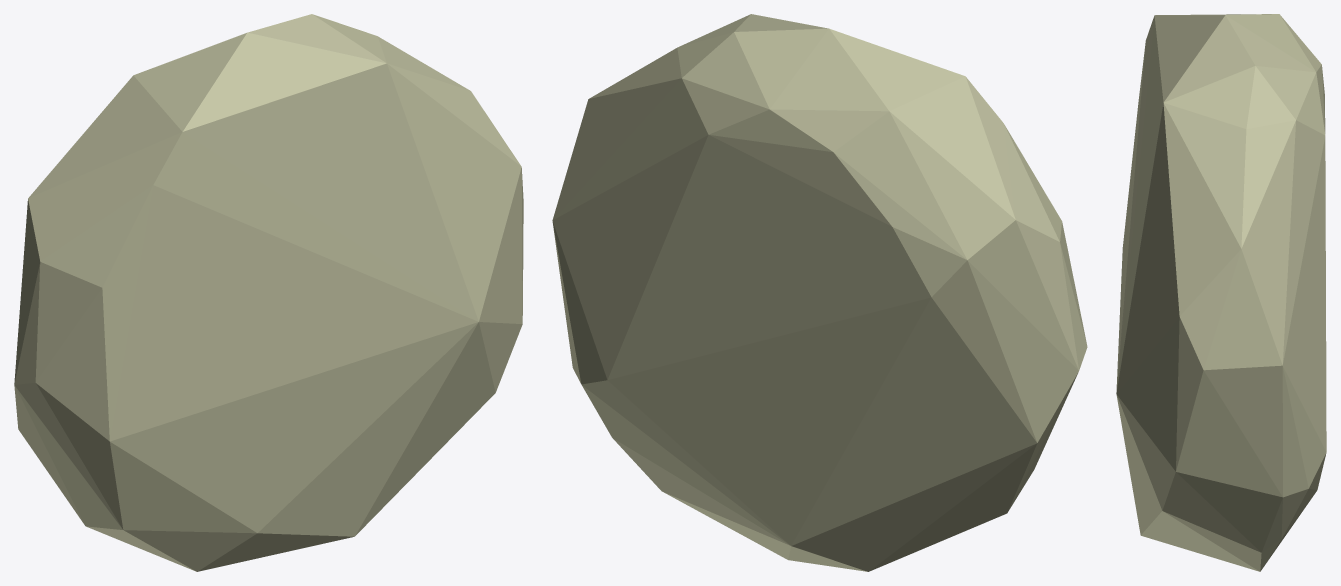
Rendered from food_prepared_donut_l01.glb.
3 renders of one model, left to right at view 1: azimuth 30°, elevation 25°; view 2: azimuth 150°, elevation 25°; view 3: azimuth 270°, elevation 25°, orthographic.
Visible parts, largest first — view 1: geometry_0; view 2: geometry_0; view 3: geometry_0.
Part boxes in pixels (x1,y1,x2,y2): geometry_0: (14, 14, 523, 571); geometry_0: (552, 14, 1087, 571); geometry_0: (1116, 14, 1326, 571).
Size of the model in its own units: 0.4717 by 0.4731 by 0.1696.
